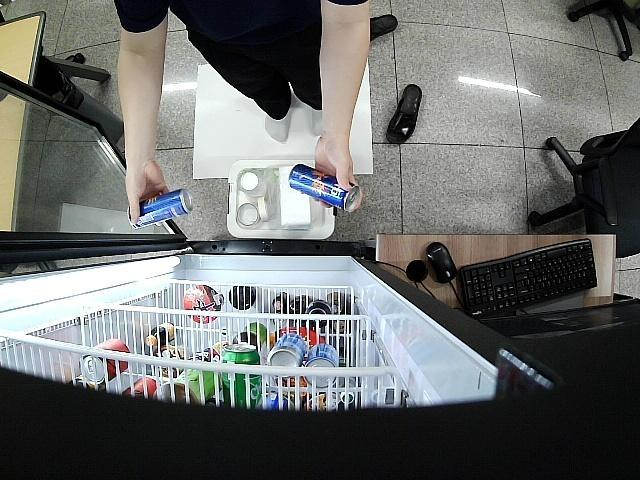16_hot6: (286, 164, 362, 213), (126, 188, 194, 230)
